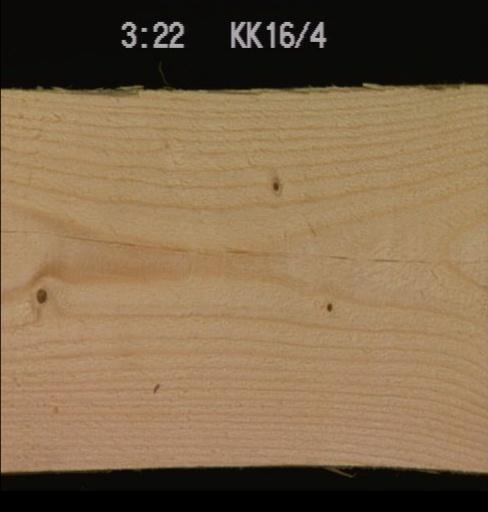small_knot: (32, 282, 46, 304), (268, 177, 279, 192), (321, 298, 332, 312)
wave: (0, 81, 469, 108)
